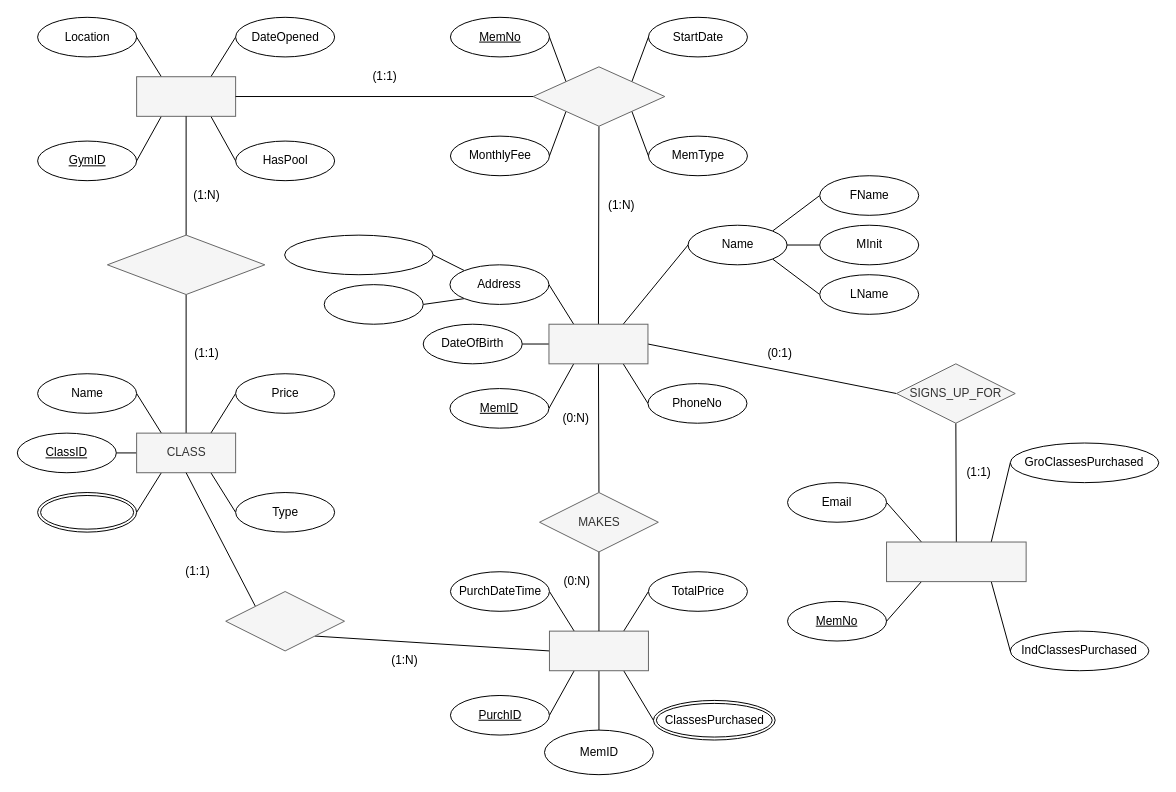
Some shapes in this 1176 by 792 pixel diagram are drawn without their labels. Here are the shapes that lost their labels. From the top down, the centre of each, then its label:
(x=186, y=96): GYM
(x=598, y=96): MEMBER_OF
(x=185, y=264): TAKES_PLACE_AT
(x=358, y=254): Build. Name/Number
(x=373, y=304): PostCode
(x=598, y=343): MEMBER
(x=87, y=512): ClassDateTime
(x=956, y=561): SUPERFITREWARDS
(x=285, y=621): FOR
(x=598, y=650): PURCHASE
